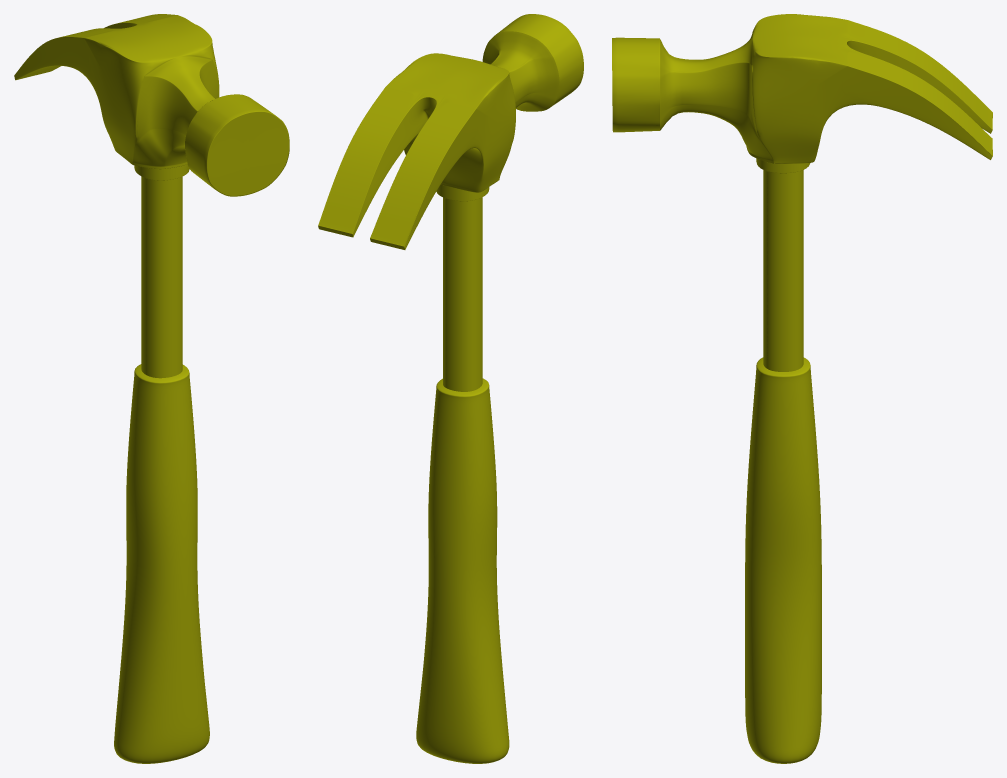
3 renders of one model, left to right at view 1: azimuth 30°, elevation 25°; view 2: azimuth 150°, elevation 25°; view 3: azimuth 270°, elevation 25°, orthographic. The views are drawn at different scales.
Parts seen in each view (by area): view 1: Cable, Iron2; view 2: Cable, Iron2; view 3: Cable, Iron2.
Part boxes in pixels (bbox=[...]): Cable: bbox=[114, 164, 209, 763]; Iron2: bbox=[14, 14, 289, 196]; Cable: bbox=[416, 184, 509, 763]; Iron2: bbox=[318, 14, 583, 249]; Cable: bbox=[745, 158, 821, 763]; Iron2: bbox=[612, 14, 992, 163].
Size of the model in its own units: 2.61 by 18.8 by 9.12.
